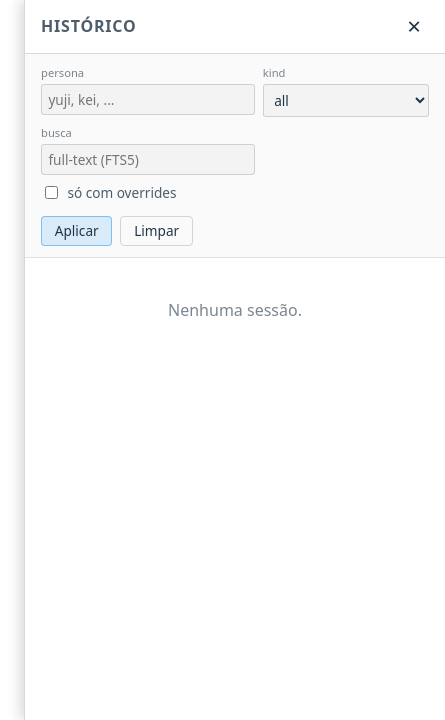
Test: SessionLibrary.svelte › filter clear reseta inputs
The width and height of the screenshot is (445, 720).
Expected: the button with test id "filter-clear" is shown, [120,216,193,246]
Type "yuji" into the field with test id "filter-persona" at (148, 99), box [41,84,255,115]
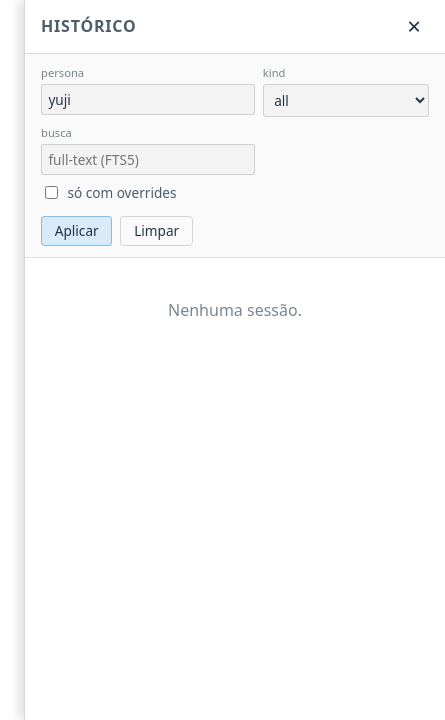
Click the button with test id "filter-clear" at (157, 231), box [120,216,193,246]
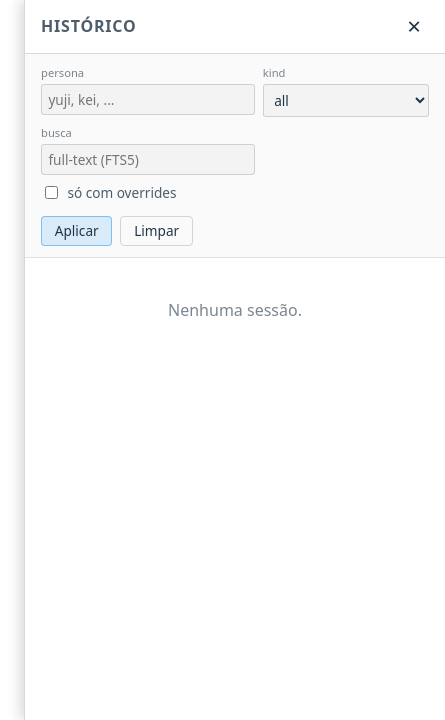
Expected: the field with test id "filter-persona" is empty, [41,84,255,115]
